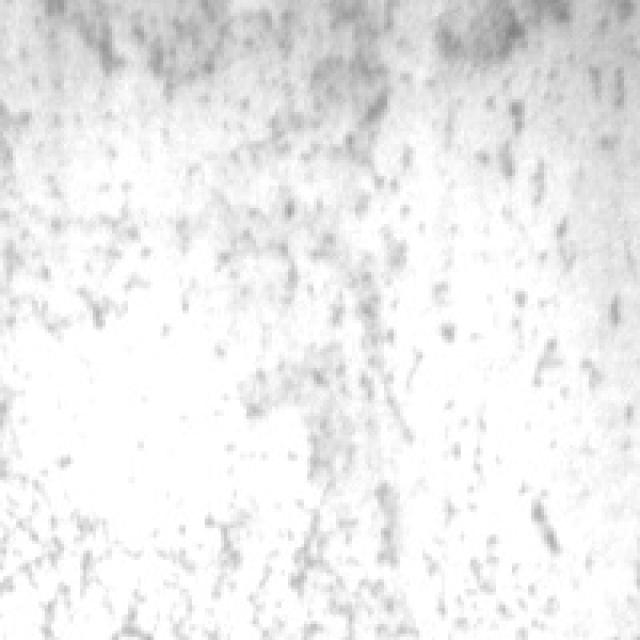pitted_surface: (0, 48, 573, 637), (422, 0, 630, 400), (32, 0, 410, 138)
